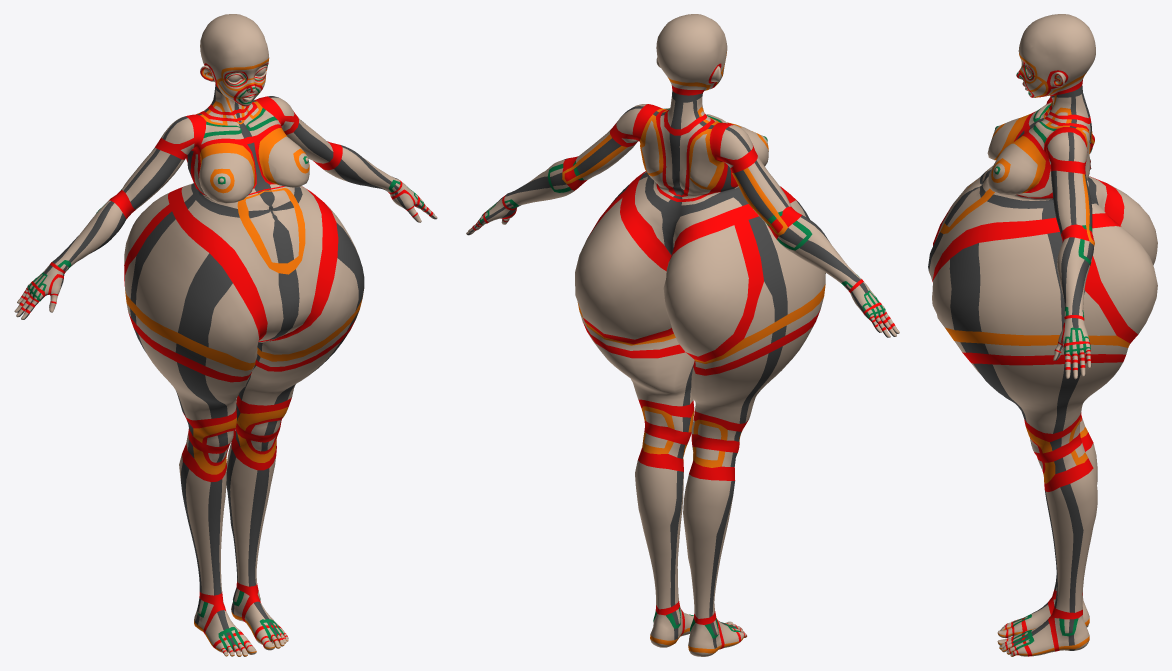
Rendered from PIsciasa.fbx.
The picture shows the model from 3 angles, left to right: view 1: azimuth 30°, elevation 25°; view 2: azimuth 150°, elevation 25°; view 3: azimuth 270°, elevation 25°; orthographic projection. The views are drawn at different scales.
Parts seen in each view (by area): view 1: pisciasa_baseMesh; view 2: pisciasa_baseMesh; view 3: pisciasa_baseMesh.
Part boxes in pixels (<box>): pisciasa_baseMesh: <box>14,14,437,656</box>; pisciasa_baseMesh: <box>466,14,899,656</box>; pisciasa_baseMesh: <box>928,14,1157,656</box>.
Bounding box in the file's own units: 1.21 × 1.7 × 0.568.
